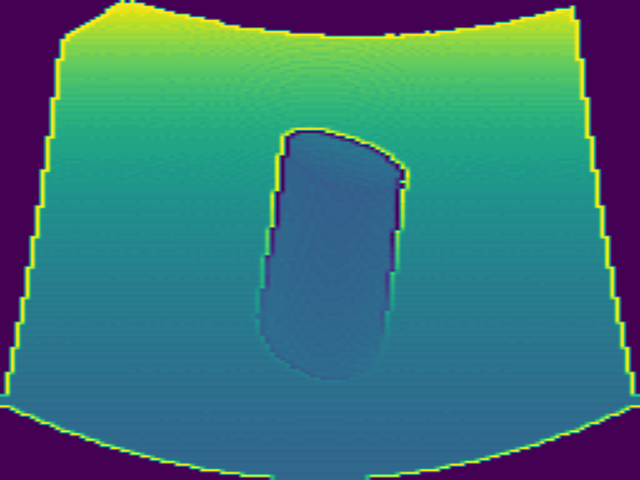cylinder: (256, 127, 411, 382)
